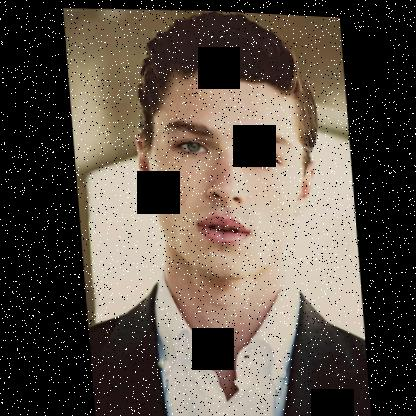Male: (128, 60, 320, 285)
